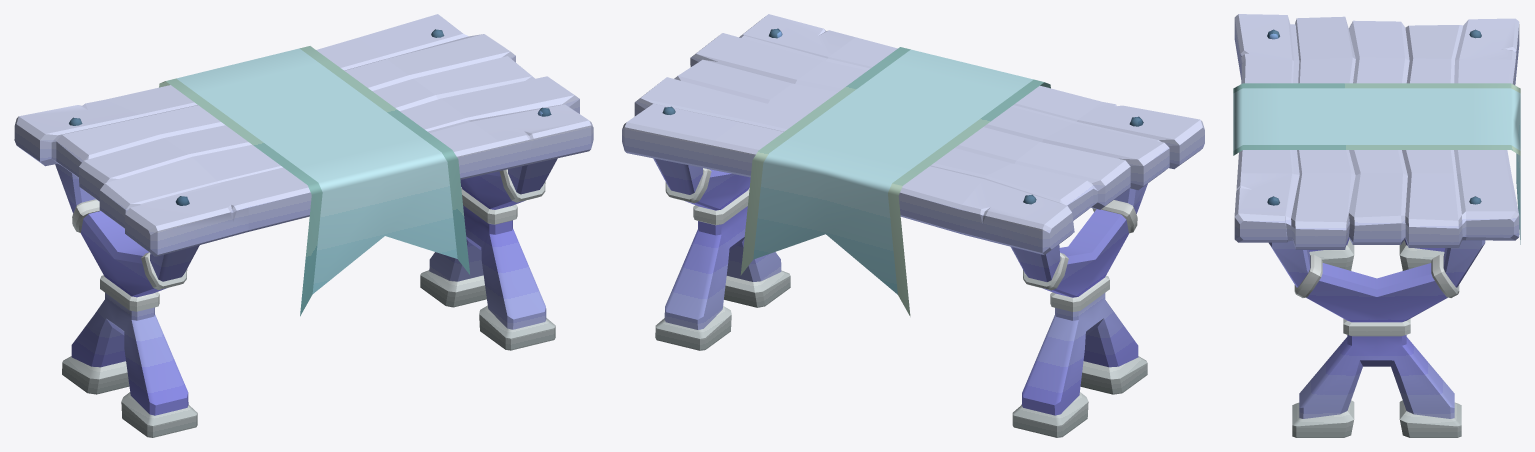
The model's file is SM_TableA_N.fbx.
The picture shows the model from 3 angles, left to right: view 1: azimuth 30°, elevation 25°; view 2: azimuth 150°, elevation 25°; view 3: azimuth 270°, elevation 25°; orthographic projection. The views are drawn at different scales.
Visible parts, largest first — view 1: SM_tableAN; view 2: SM_tableAN; view 3: SM_tableAN.
Boxes of the visible parts, x1,y1,x2,y2 form: SM_tableAN: (14,14,593,437); SM_tableAN: (622,14,1204,437); SM_tableAN: (1233,14,1520,437).
Size of the model in its own units: 186 by 94.34 by 107.
1 material, 1 textured.
